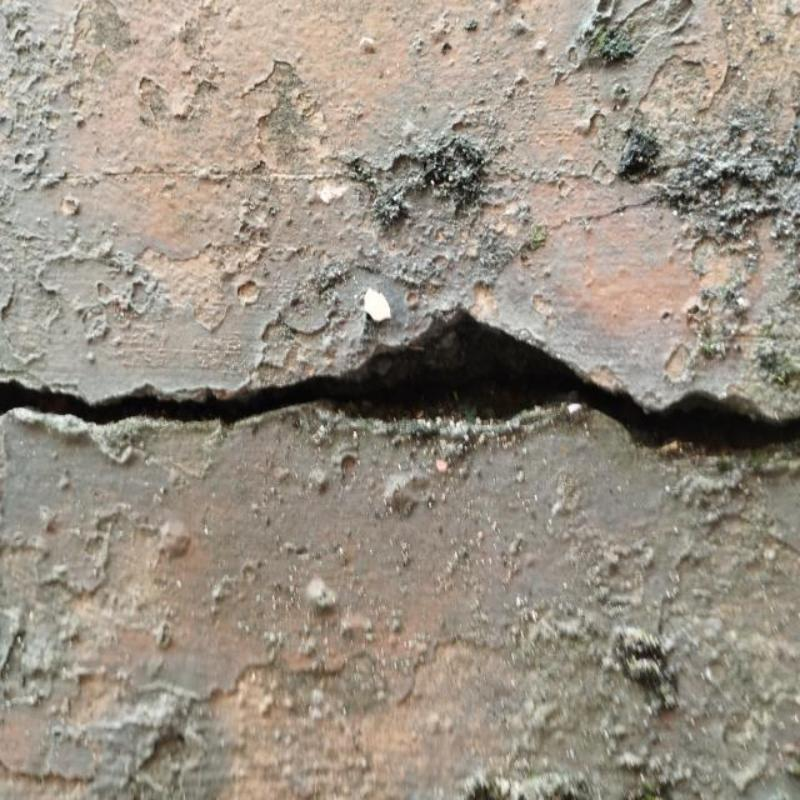pothole: (0, 315, 800, 484)
